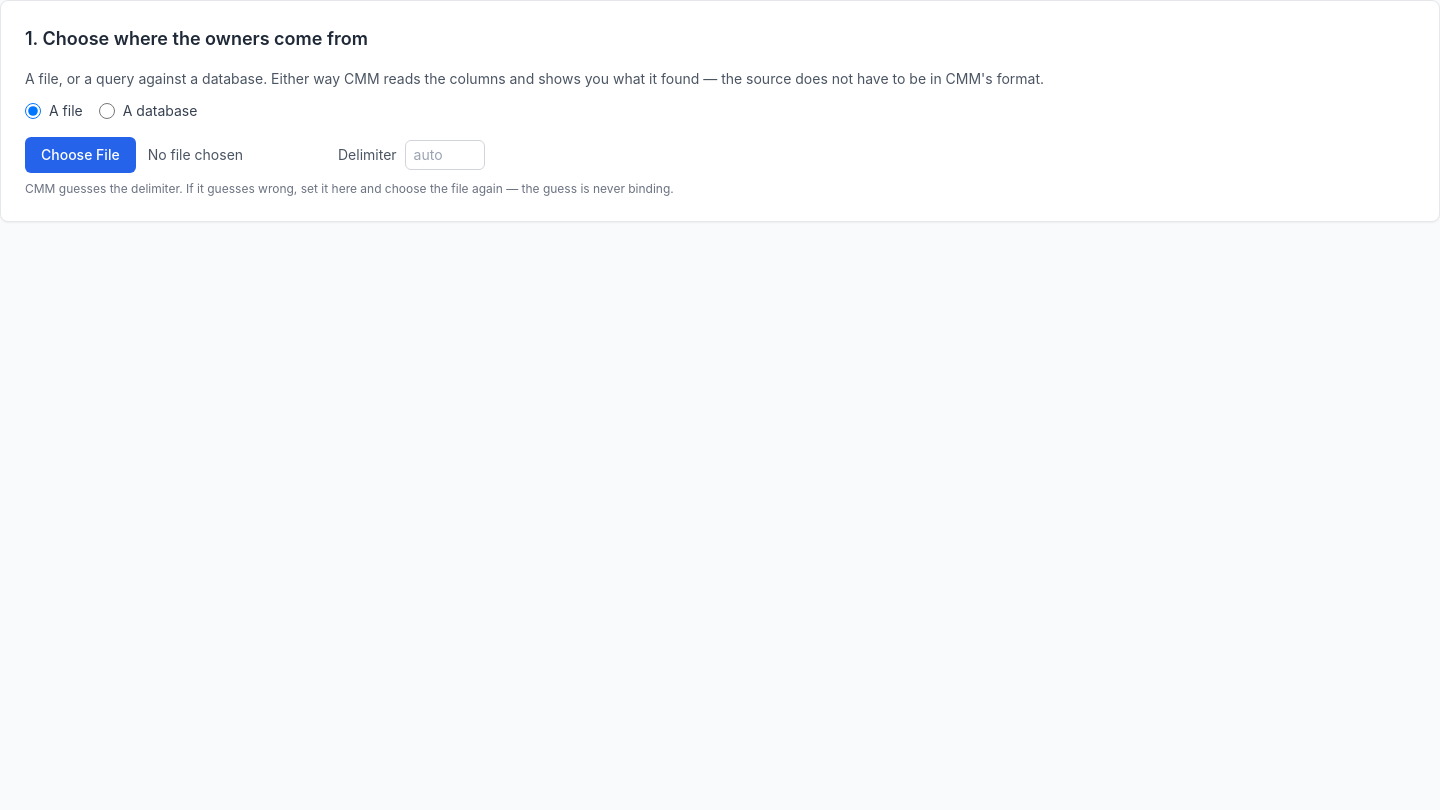
browsing the database › writes a query when a table is chosen, quoted for its database
This screenshot has width=1440, height=810.
Click the radio button labelled "A database" at (107, 111), box [99,103,115,119]
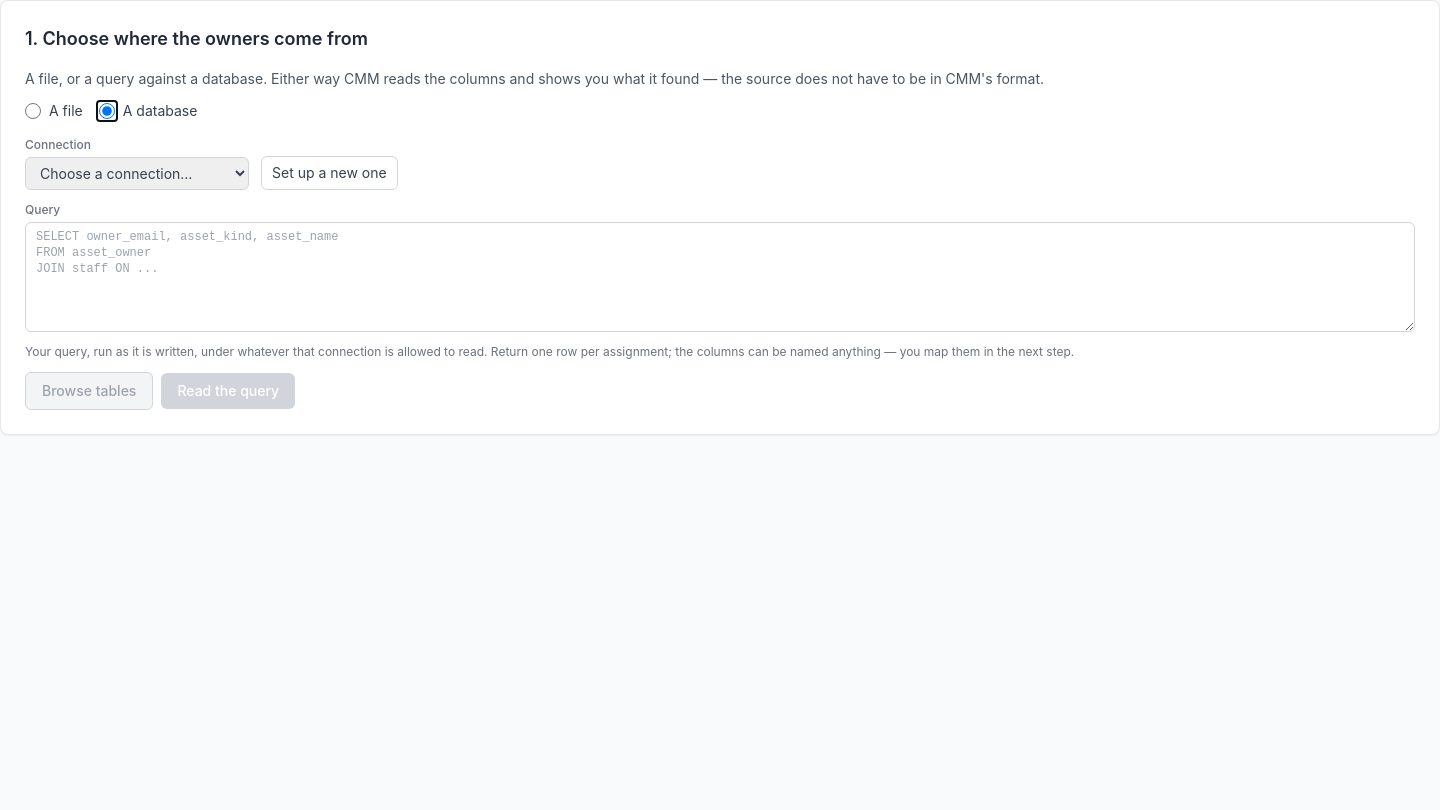
Select "cmdb-connection" in the dropdown labelled "Connection" at (137, 174), box [25,157,249,190]
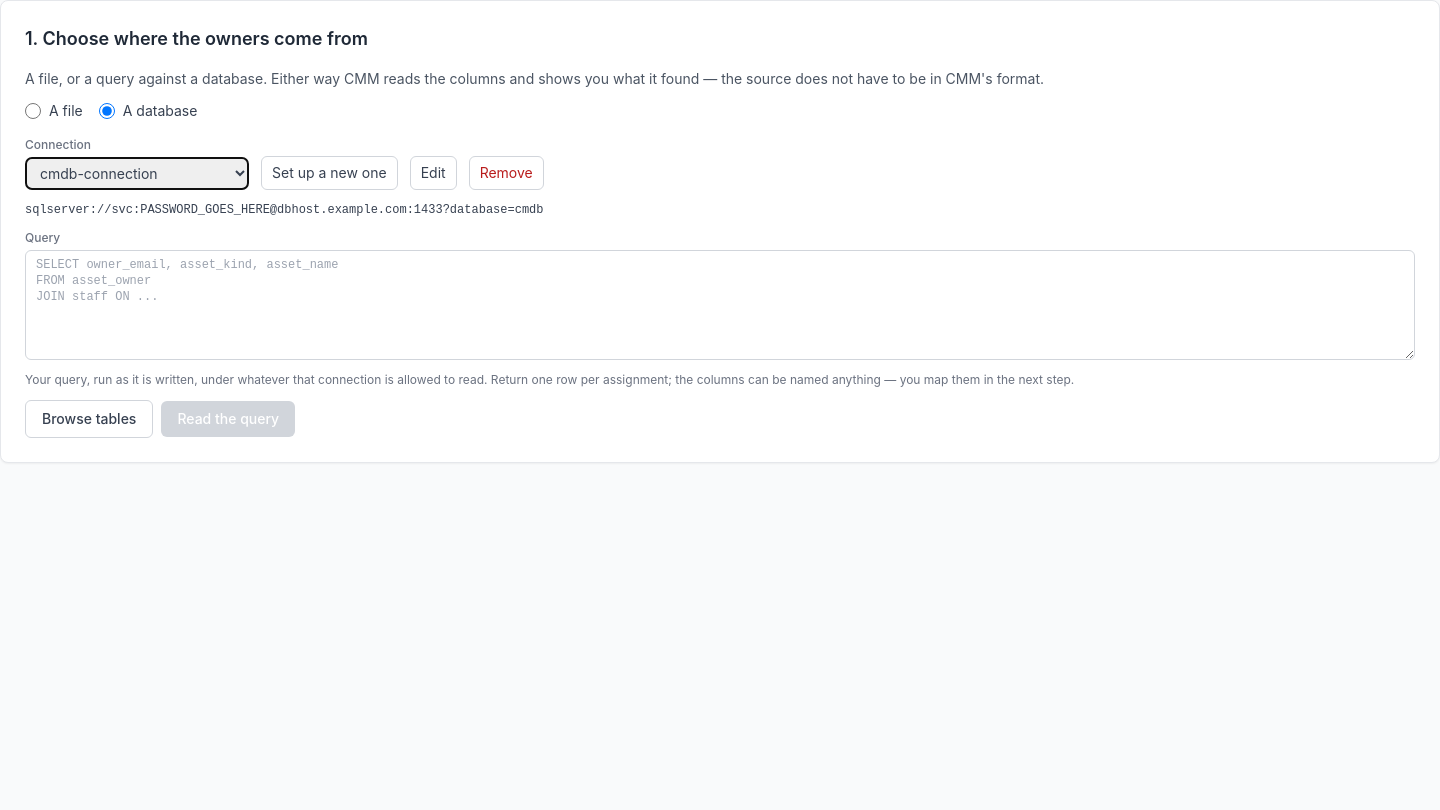
Click the button "Browse tables" at (89, 419), box [25,400,153,438]
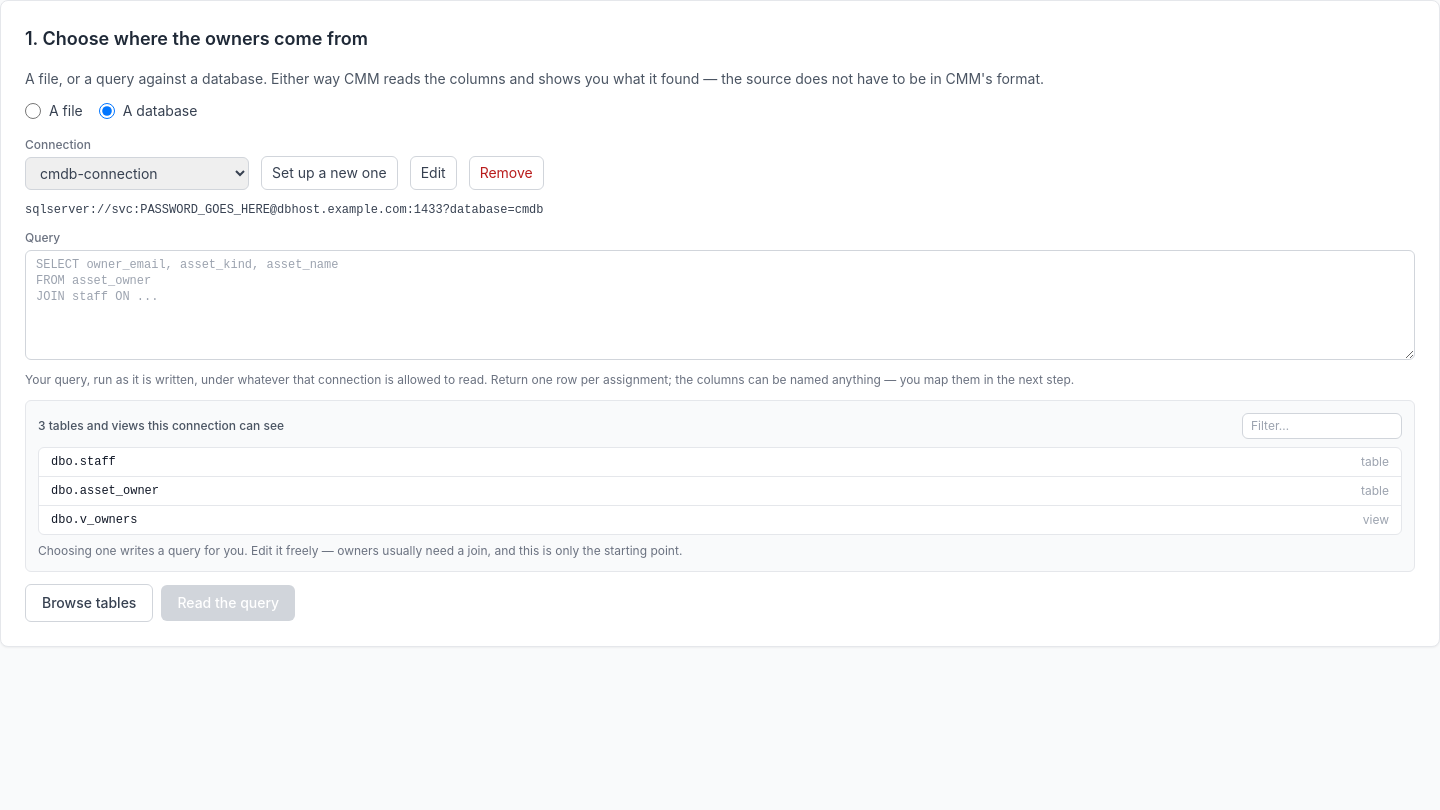
Click the text "dbo.staff" at (83, 462), box [51,454,116,470]
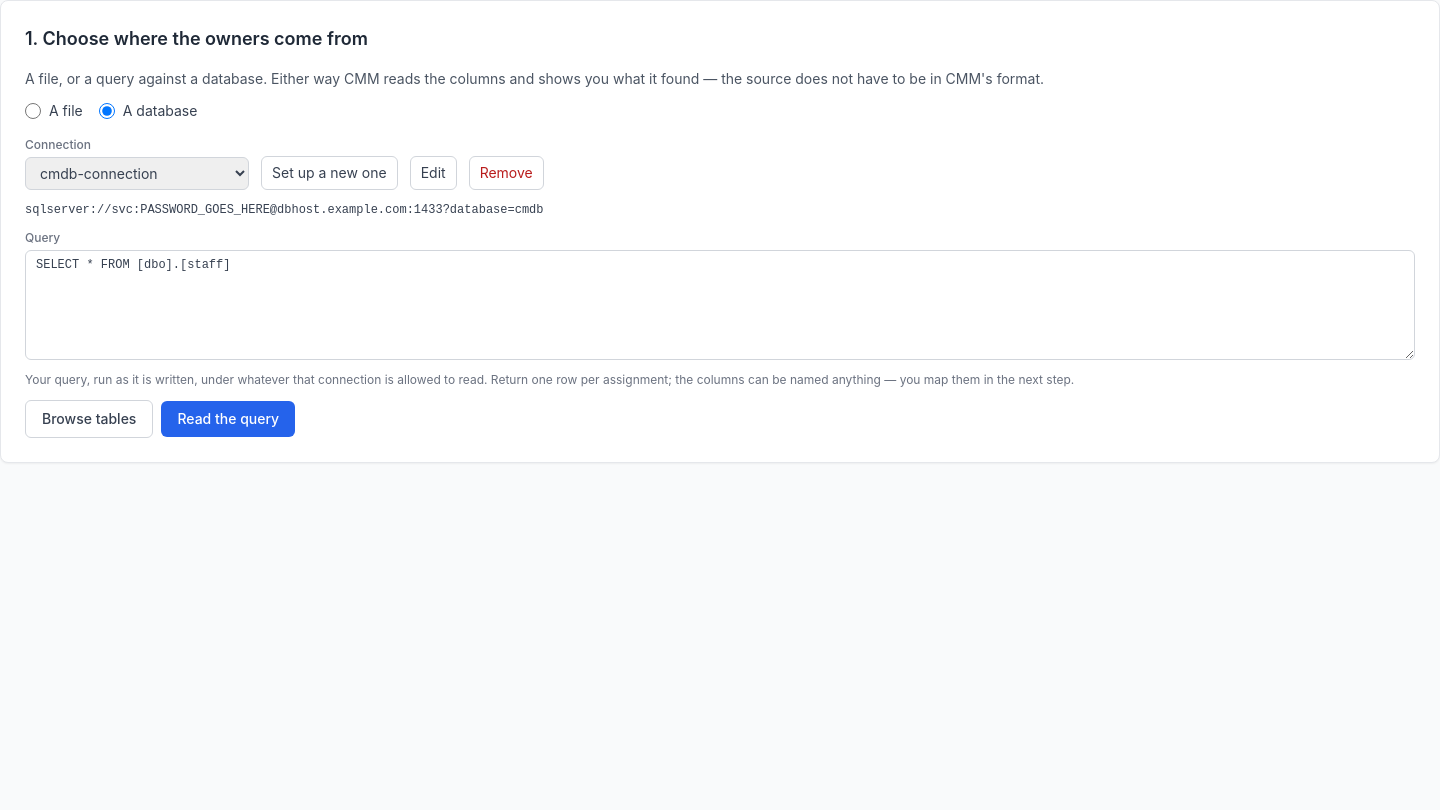
Now the text box labelled "Query" holds "SELECT * FROM [dbo].[staff]", box [25,250,1415,360]
